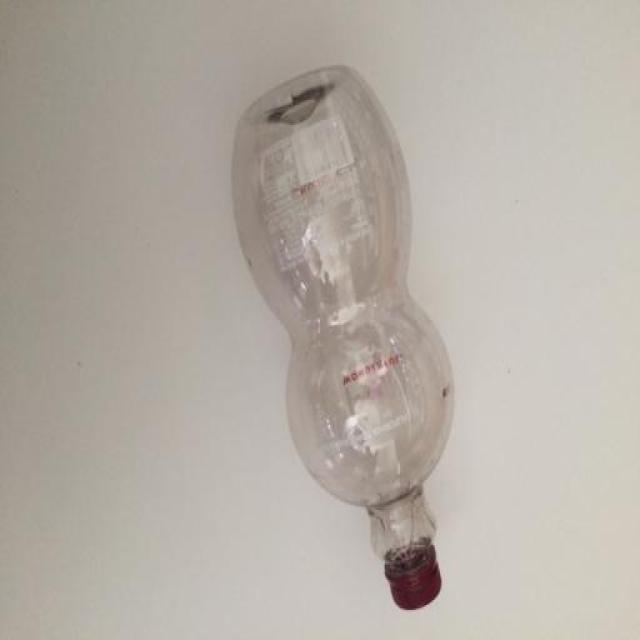Plastic: (229, 62, 456, 610)
